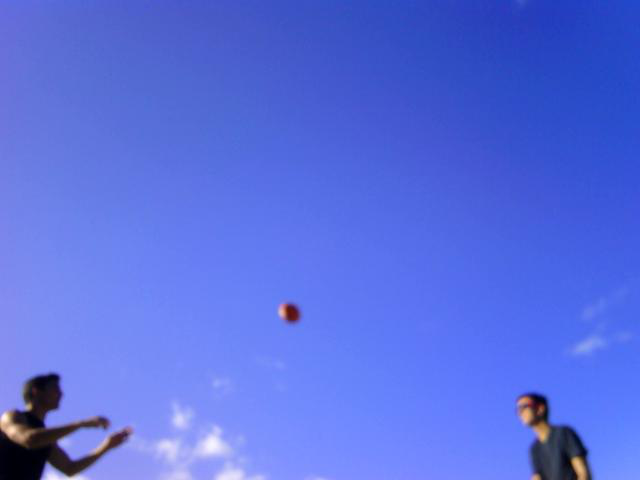football: (274, 300, 306, 325)
